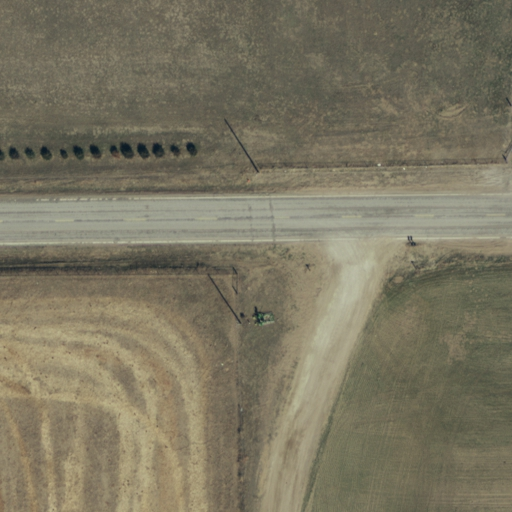DT: (246, 161, 269, 185), (228, 311, 250, 335)
